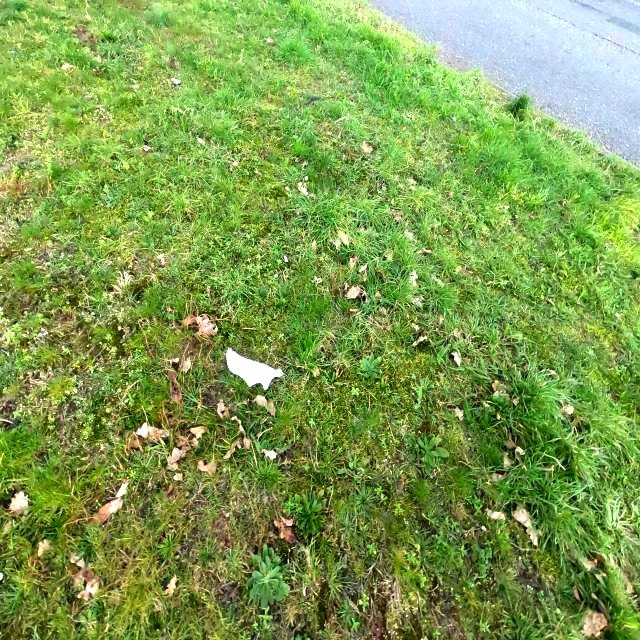Paper: (226, 346, 284, 389)
